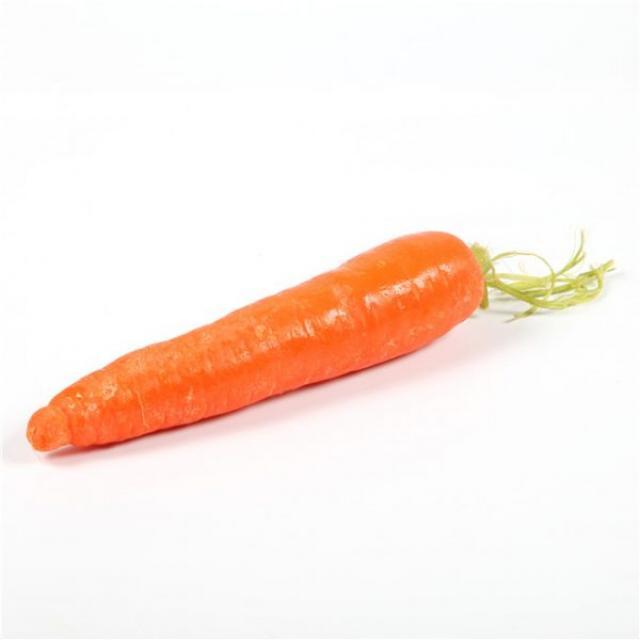Carrot: (23, 225, 633, 450)
